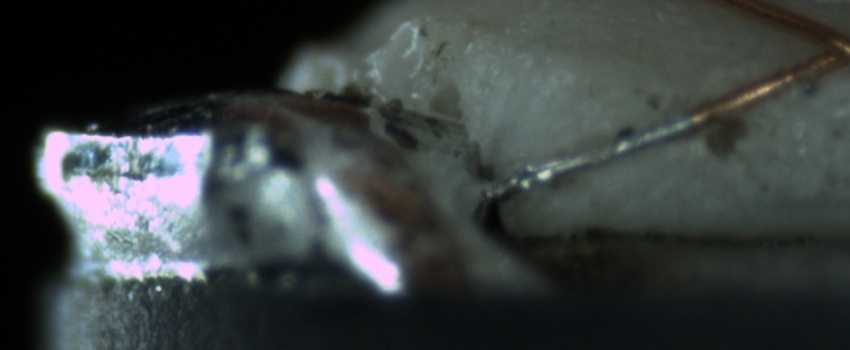CL: (796, 15, 850, 78)
TS: (495, 112, 690, 193)
